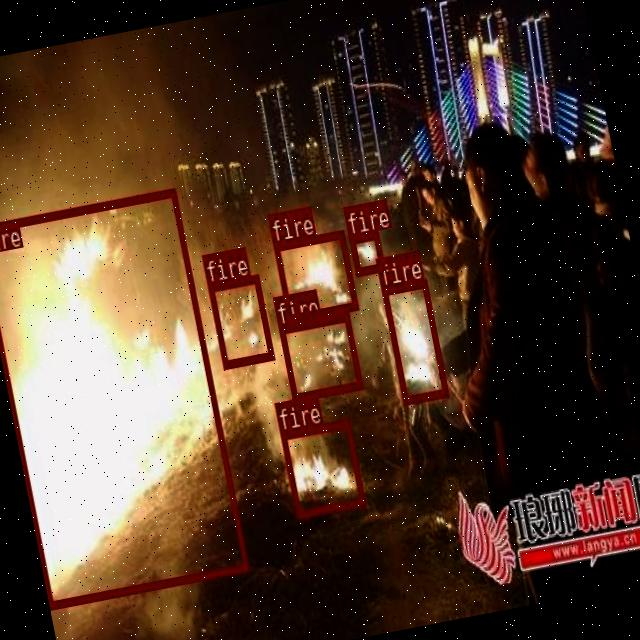fire: (0, 186, 247, 607), (380, 278, 448, 404), (280, 418, 365, 517), (272, 229, 357, 322), (278, 312, 362, 401), (206, 274, 274, 367), (349, 230, 384, 274)
